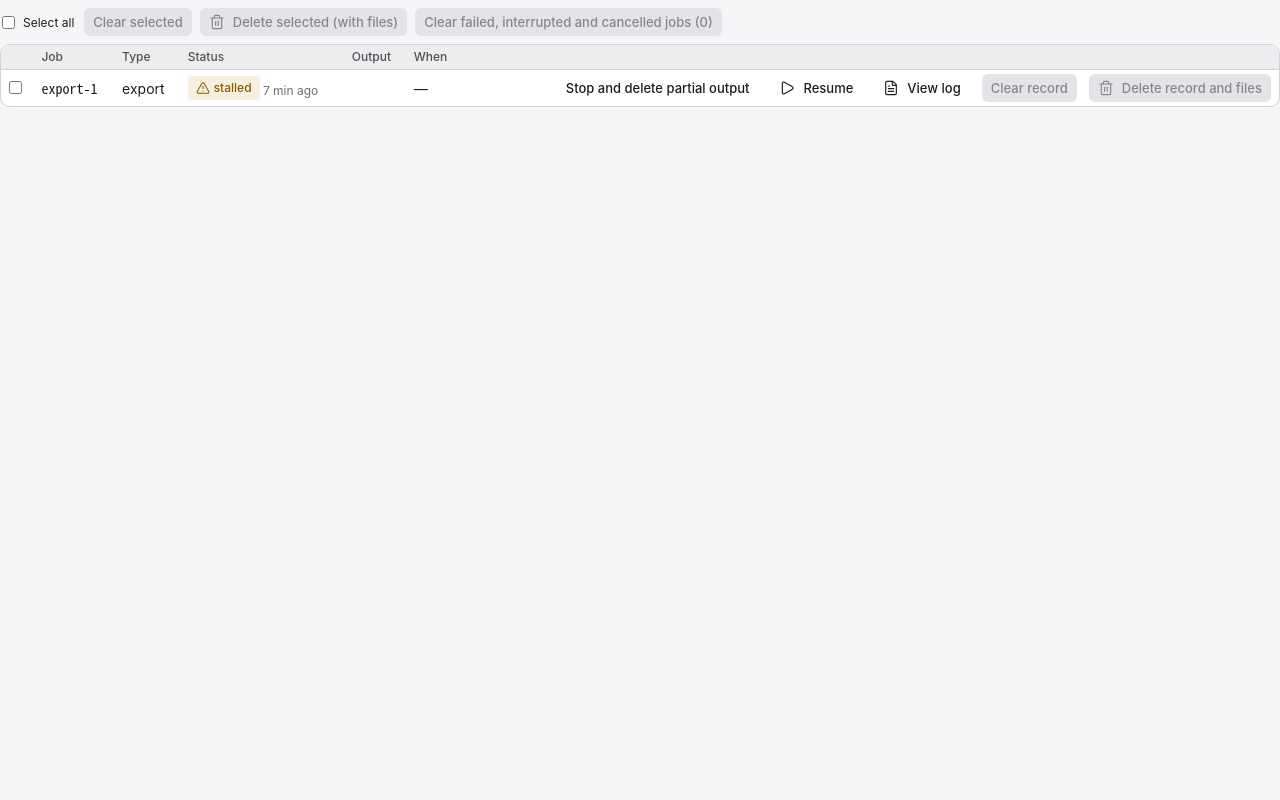
stopping a job that holds unfinished output › the job list asks the same question before cancelling
Click the button "Stop and delete partial output". click: (658, 88)
box: [557,74,758,102]
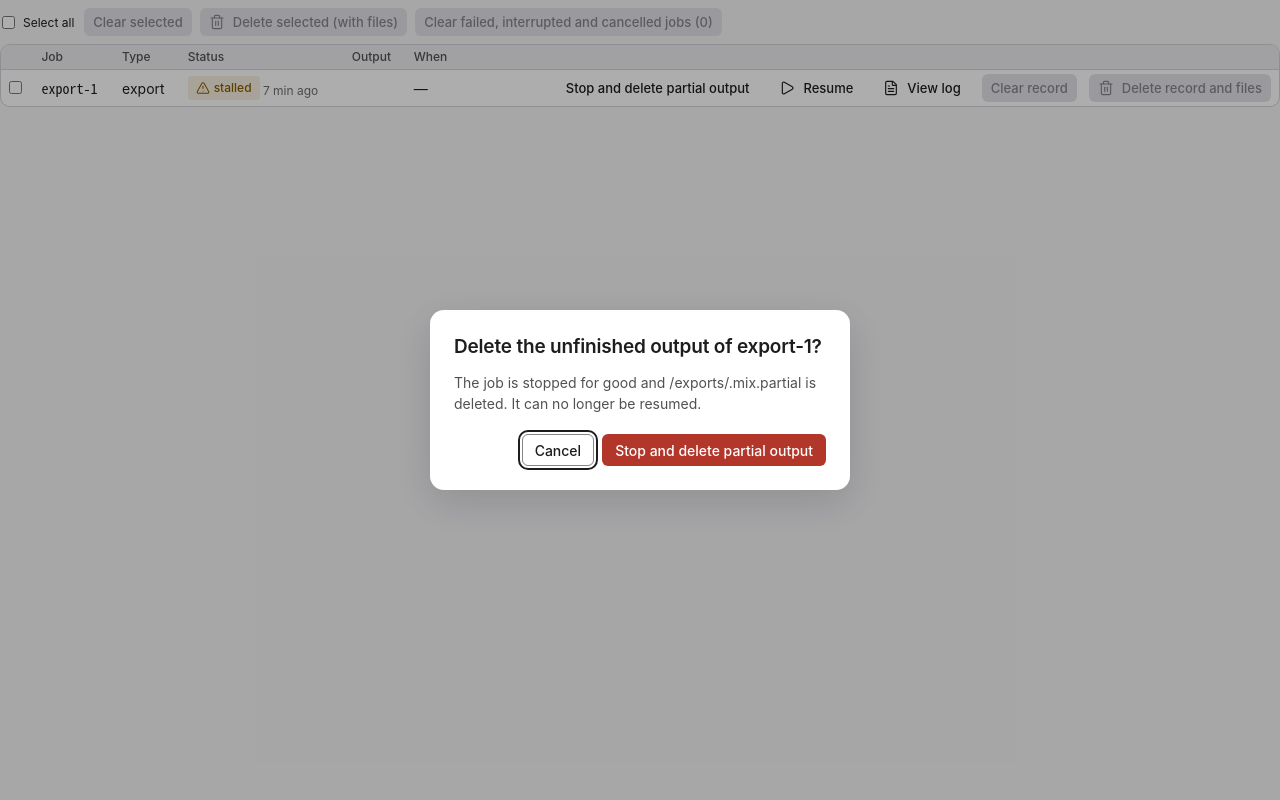
Check: the dialog is shown, box [430,310,850,490]
